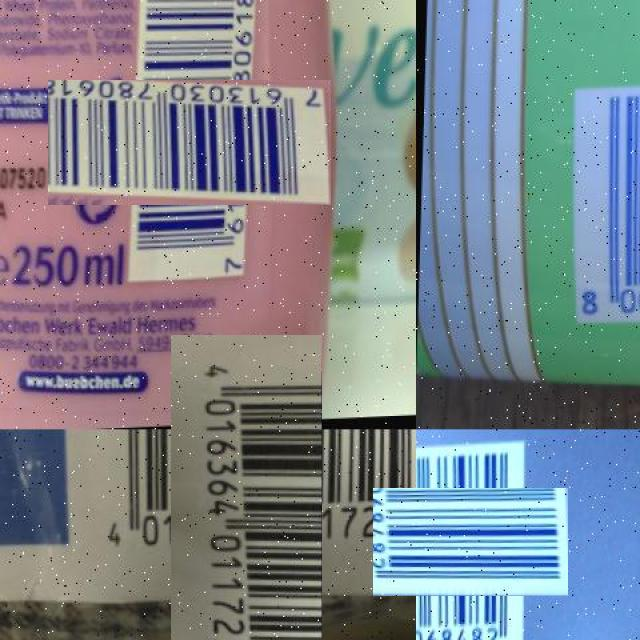Barcode: (124, 382, 369, 627), (87, 40, 292, 244), (394, 467, 547, 618), (557, 74, 640, 338)
